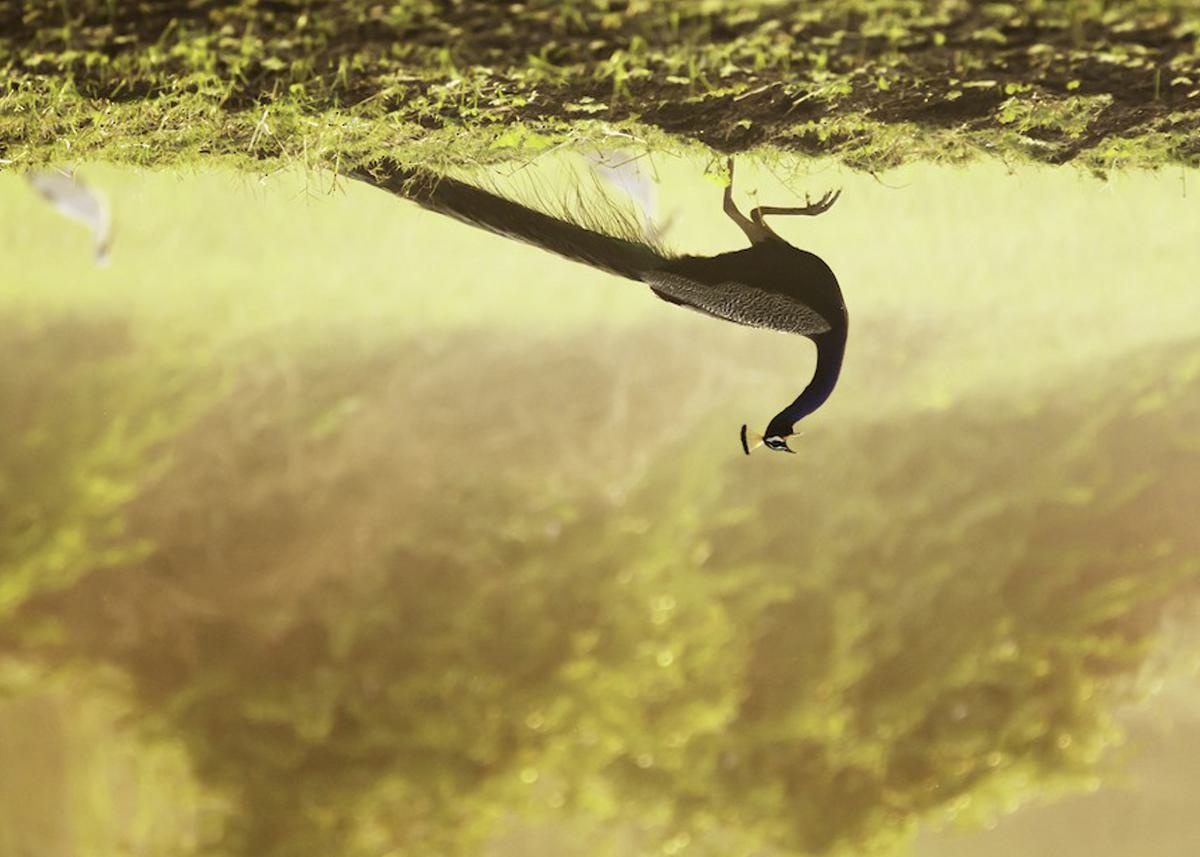peacock: (319, 139, 888, 476)
